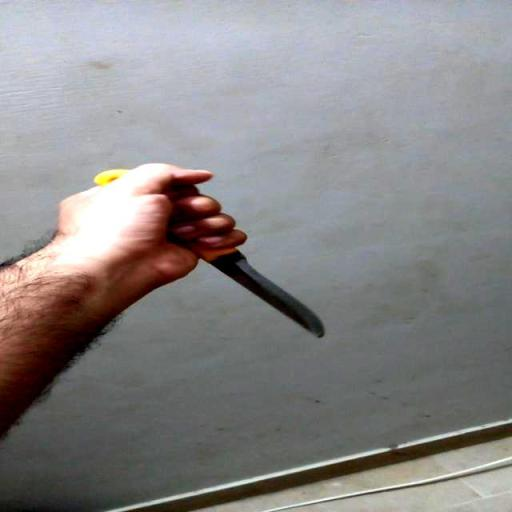knife: (92, 168, 330, 342)
